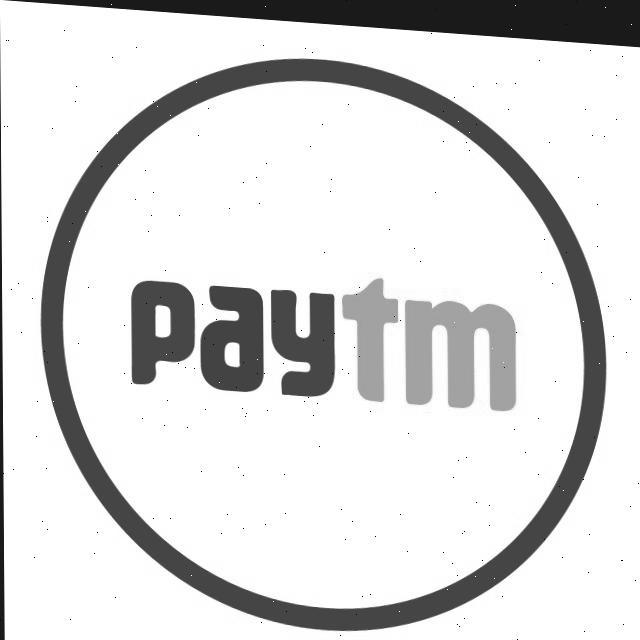fully_visible: (111, 240, 527, 441)
